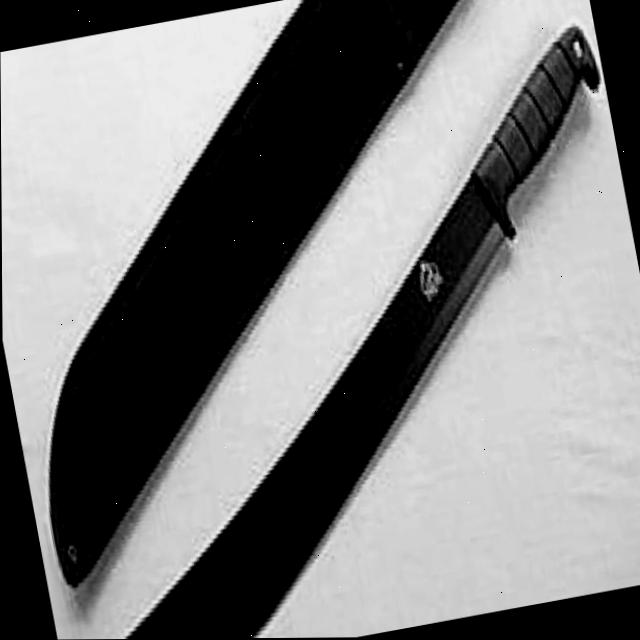long knife: (23, 16, 640, 640)
